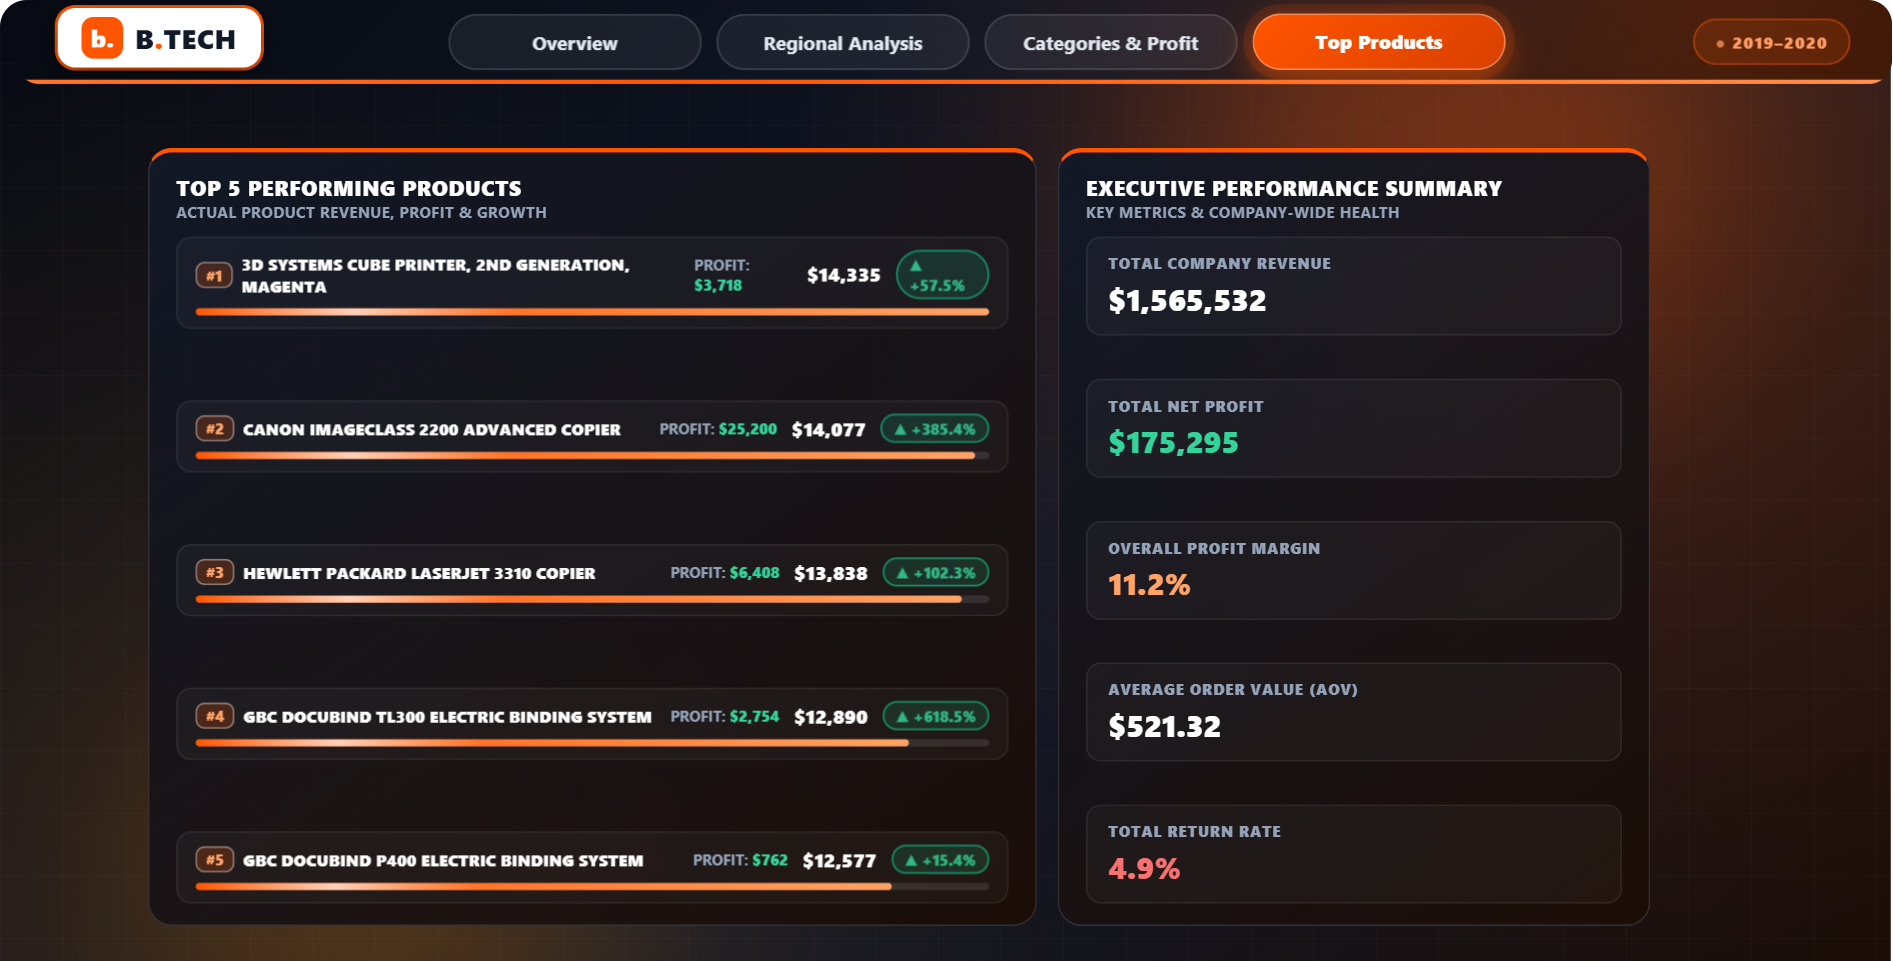

This screenshot's page, from the dashboard's own definition file:
{"tool":"powerbi","page":{"name":"Top Products","canvas":[1280,720],"ordinal":4},"visuals":[{"type":"htmlContent443BE3AD55E043BF878BED274D3A6855","fields":{"content":["Dax (2).Bg_Page"]},"box":[0,0,1280,719.3],"z":0},{"type":"htmlContent443BE3AD55E043BF878BED274D3A6855","fields":{"content":["Dax (2).Nav_Products"]},"box":[10.2,0,1270,70],"z":1000},{"type":"actionButton","box":[40.9,10.2,139.8,51.1],"z":2000},{"type":"actionButton","box":[323.7,12.7,139.6,50.8],"z":3000},{"type":"actionButton","box":[490.8,0,171.4,61.4],"z":4000},{"type":"actionButton","box":[679.1,10.6,139.6,50.8],"z":5000},{"type":"htmlContent443BE3AD55E043BF878BED274D3A6855","fields":{"content":["Dax (2).Chart_Top_Products"]},"box":[100,100,1018.6,566.1],"z":5001}]}

Visuals, with their boxes on the page's 1280x720 design canvas (x1, y1, x2, y2). These are canvas units, not pixel positions in the 1893x961 screenshot, which may show the page scaled, cropped or inside an application window:
htmlContent443BE3AD55E043BF878BED274D3A6855 - Dax (2).Bg_Page: 0/0/1280/719
htmlContent443BE3AD55E043BF878BED274D3A6855 - Dax (2).Nav_Products: 10/0/1280/70
actionButton: 41/10/181/61
actionButton: 324/13/463/64
actionButton: 491/0/662/61
actionButton: 679/11/819/61
htmlContent443BE3AD55E043BF878BED274D3A6855 - Dax (2).Chart_Top_Products: 100/100/1119/666
